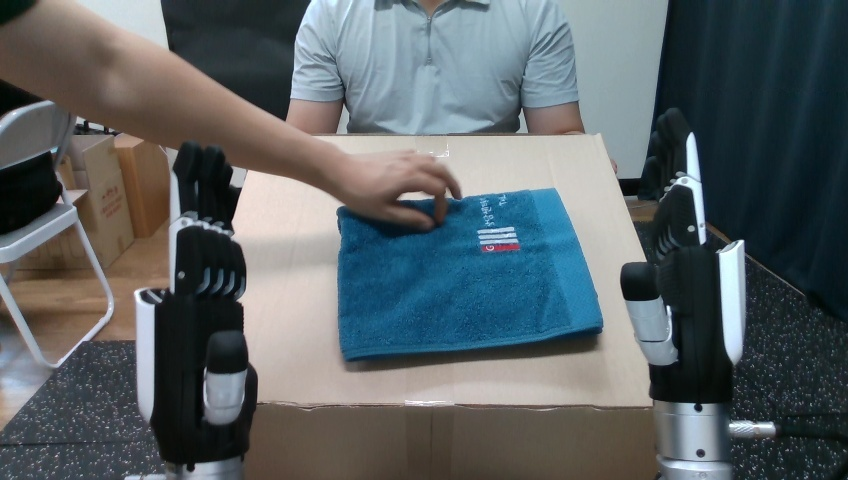left robot hand: (621, 108, 745, 478), (135, 141, 256, 478), (340, 151, 460, 230)
